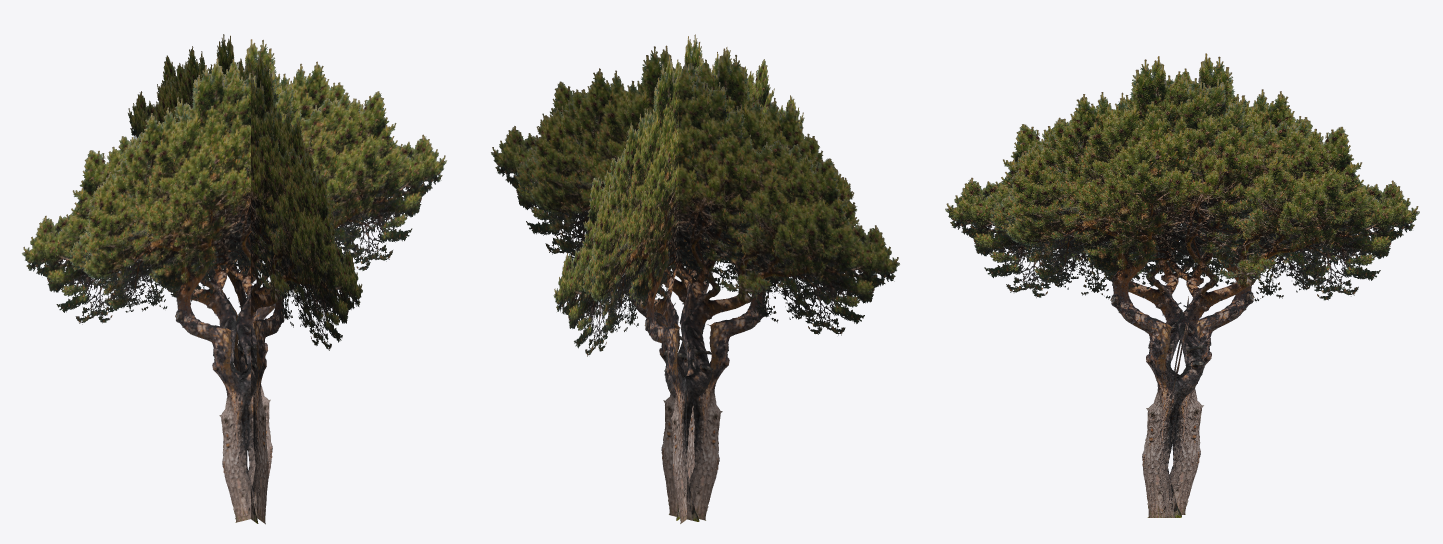
File: SM_Tree_Pine_00.fbx
3 renders of one model, left to right at view 1: azimuth 30°, elevation 25°; view 2: azimuth 150°, elevation 25°; view 3: azimuth 270°, elevation 25°, orthographic. The views are drawn at different scales.
Visible parts, largest first — view 1: SM_Tree_Pine_00; view 2: SM_Tree_Pine_00; view 3: SM_Tree_Pine_00.
Boxes of the visible parts, box(x1,y1,x2,y2) form: SM_Tree_Pine_00: box(22, 34, 446, 524); SM_Tree_Pine_00: box(491, 34, 899, 523); SM_Tree_Pine_00: box(945, 53, 1419, 517).
Bounding box in the file's own units: 1295 × 1379 × 1307.
